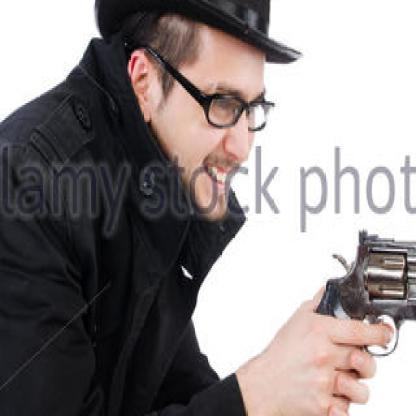gun: (314, 227, 414, 414)
